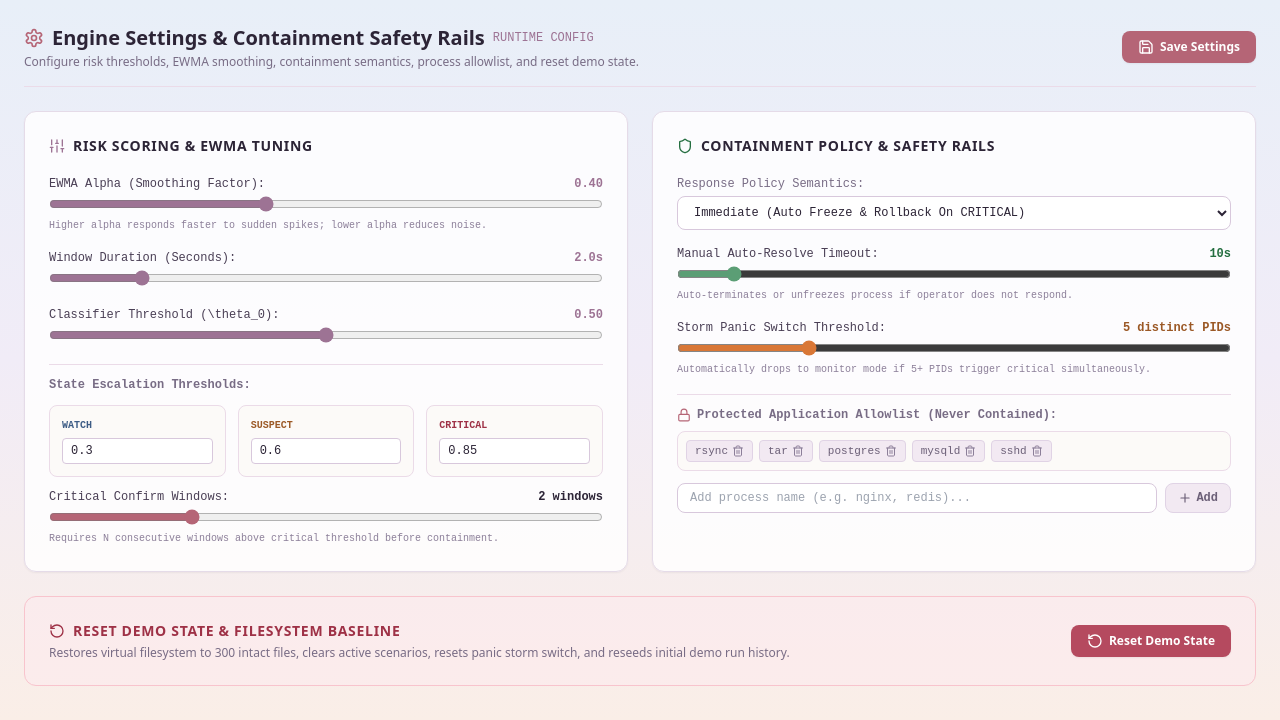
SettingsPage Component › allows adding an allowlist item
Type "nginx" into the field with placeholder "Add process name (e.g. nginx, redis)..." at (917, 498), box [677, 483, 1157, 513]
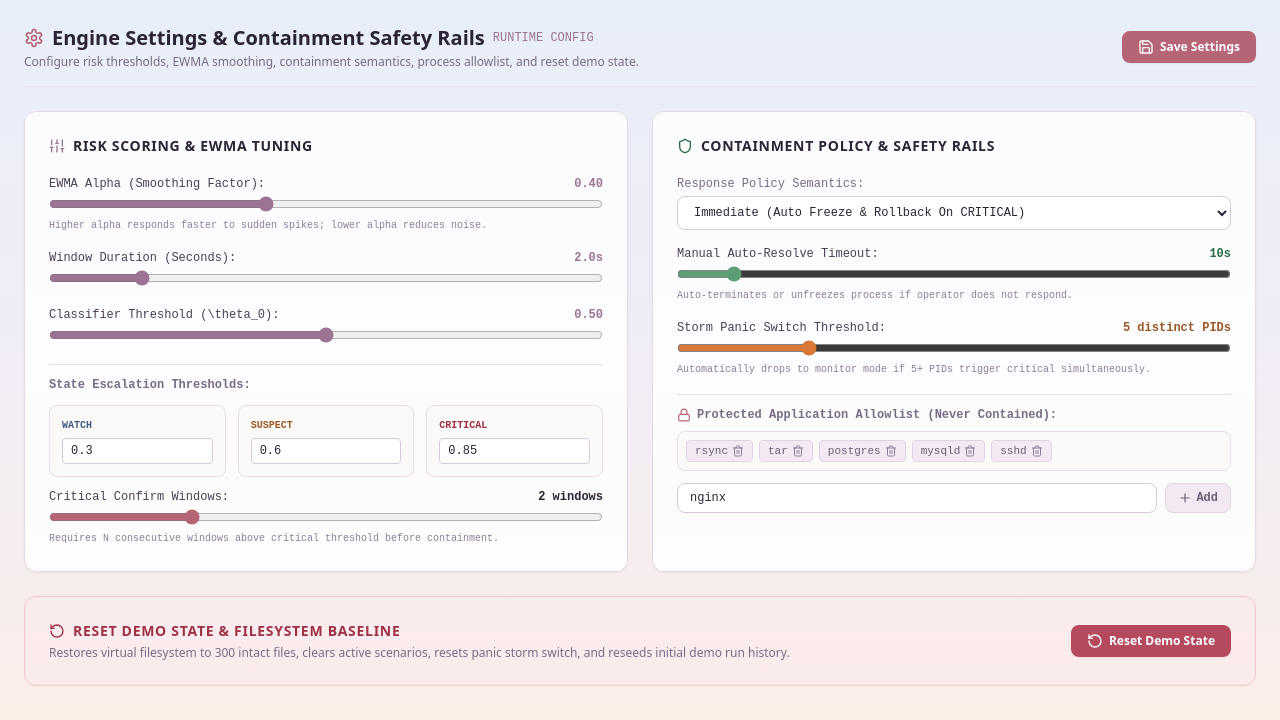
Click the button "Add" at (1198, 498), box [1165, 483, 1231, 513]
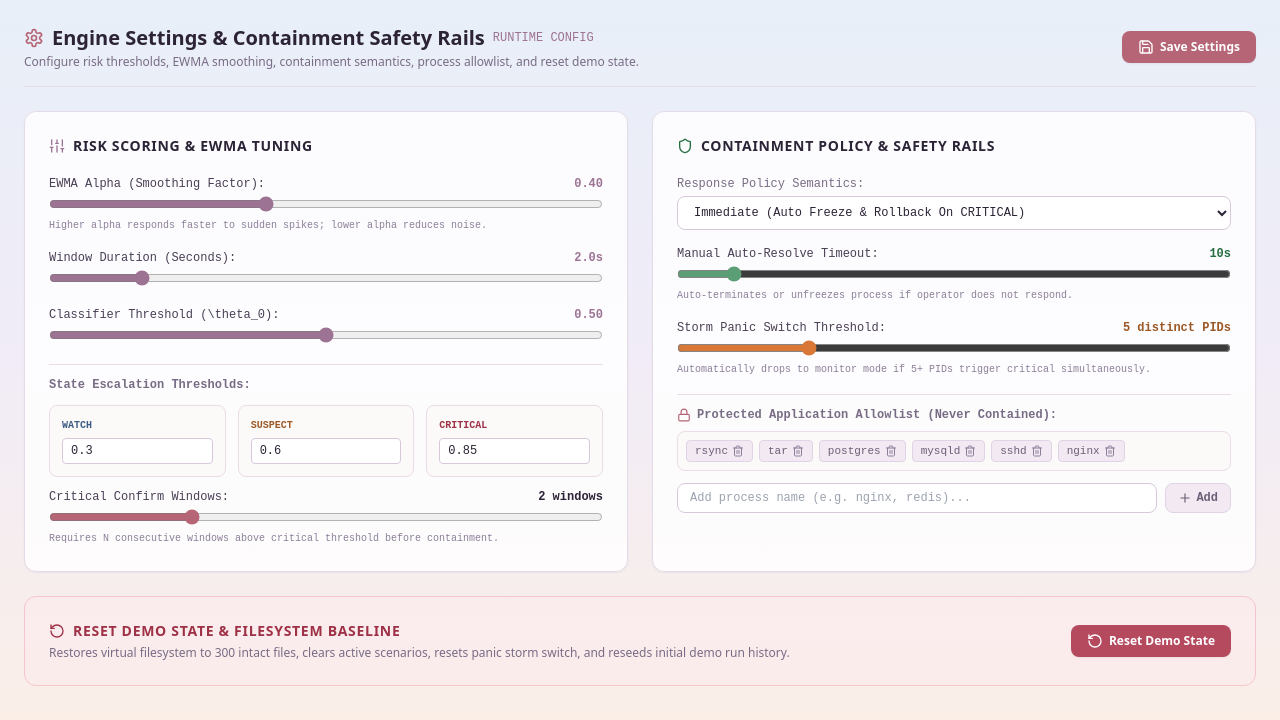
Now the text "nginx" is shown, box [1067, 443, 1100, 459]
